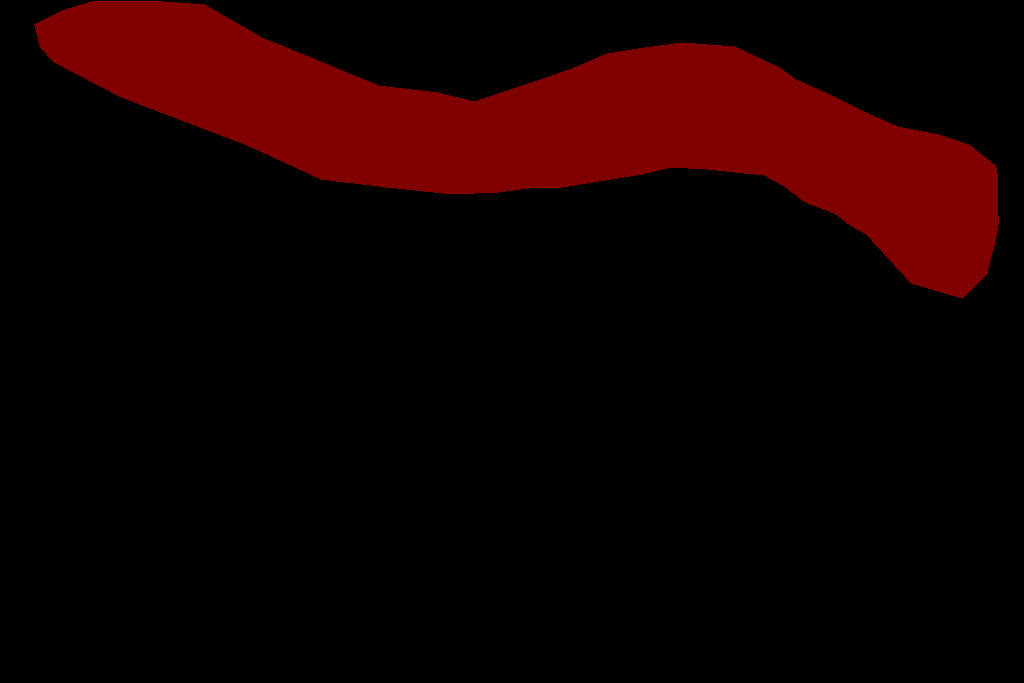fire: (34, 1, 998, 298)
